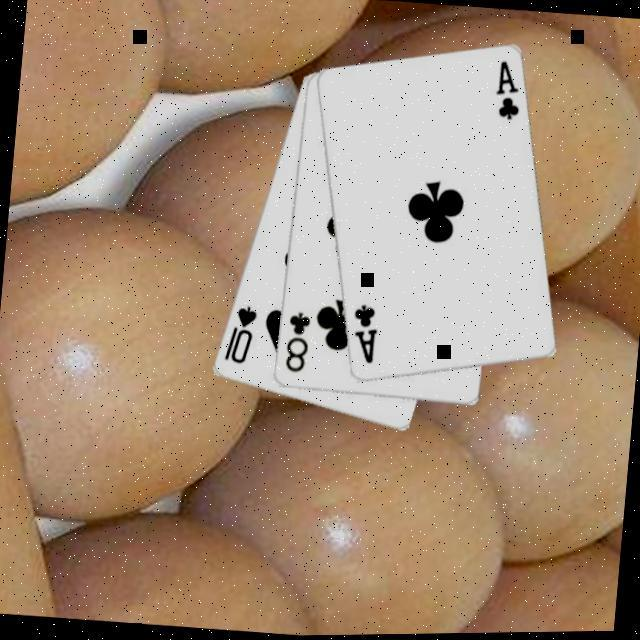10S: (220, 302, 262, 369)
8C: (281, 310, 315, 378)
AC: (347, 303, 383, 369), (491, 60, 527, 126)
